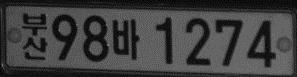1: (153, 16, 180, 64)
2: (184, 17, 211, 66)
4: (246, 20, 276, 67)
7: (215, 18, 243, 66)
8: (82, 14, 110, 63)
9: (50, 13, 78, 61)
바: (112, 19, 140, 60)
부산_V: (21, 12, 47, 60)
